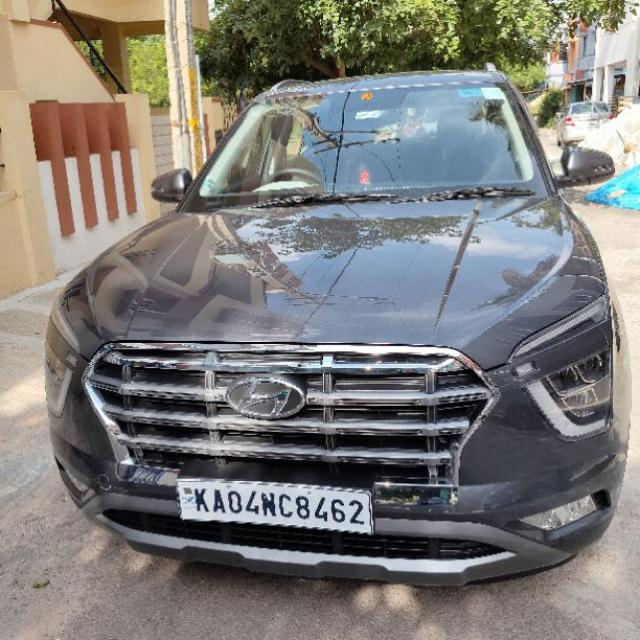license_plate: (175, 477, 374, 535)
